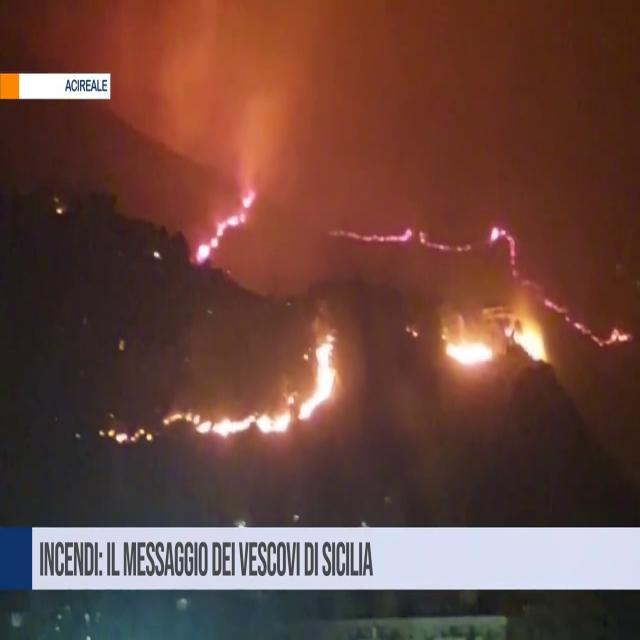Fire: (438, 290, 555, 377), (274, 322, 342, 434), (194, 398, 290, 444)
Smoke: (89, 2, 635, 232)
